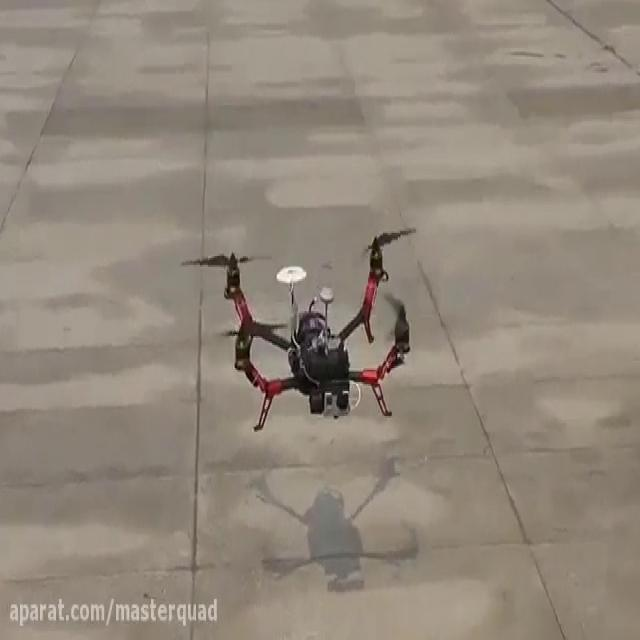drone: (176, 217, 419, 441)
